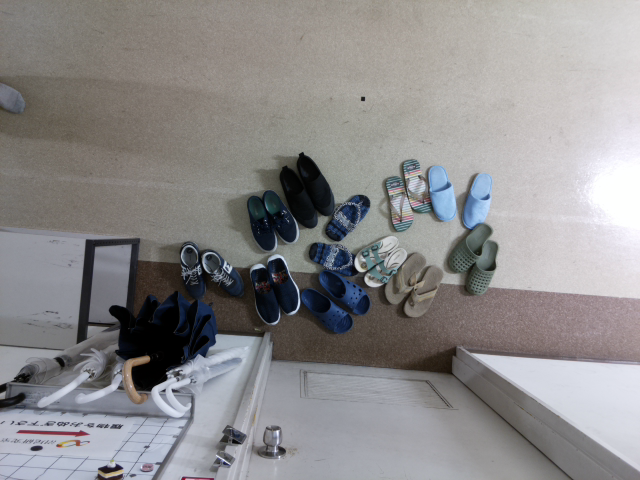Copy of Copy of Copy of Copy of Copy of Copy of Copy of sandal: (403, 158, 432, 213)
Copy of Copy of Copy of Copy of Copy of Copy of Copy of shoe: (265, 252, 299, 313)
Copy of Copy of Copy of Copy of Copy of Copy of sandal: (384, 175, 413, 232)
Copy of Copy of Copy of Copy of Copy of Copy of shoe: (249, 262, 281, 325)
Copy of Copy of Copy of Copy of Copy of sandal: (308, 241, 358, 277)
Copy of Copy of Copy of Copy of Copy of shoe: (178, 240, 207, 299)
Copy of Copy of Copy of Copy of Copy of slipper: (299, 286, 352, 334)
Copy of Copy of Copy of Copy of sandal: (324, 193, 370, 241)
Copy of Copy of Copy of Copy of shoe: (198, 247, 244, 298)
Copy of Copy of Copy of Copy of slipper: (317, 269, 370, 316)
Copy of Copy of Copy of sandal: (353, 235, 399, 273)
Copy of Copy of Copy of shoe: (246, 194, 278, 252)
Copy of Copy of Copy of slipper: (426, 164, 456, 222)
Copy of Copy of sandal: (363, 247, 407, 287)
Copy of Copy of shoe: (262, 188, 299, 244)
Copy of Copy of slipper: (462, 171, 492, 230)
Copy of sandal: (384, 251, 426, 305)
Copy of shoe: (279, 163, 320, 230)
Copy of slipper: (463, 238, 498, 295)
sandal: (402, 264, 442, 318)
shoe: (295, 152, 334, 215)
slipper: (448, 222, 493, 274)
